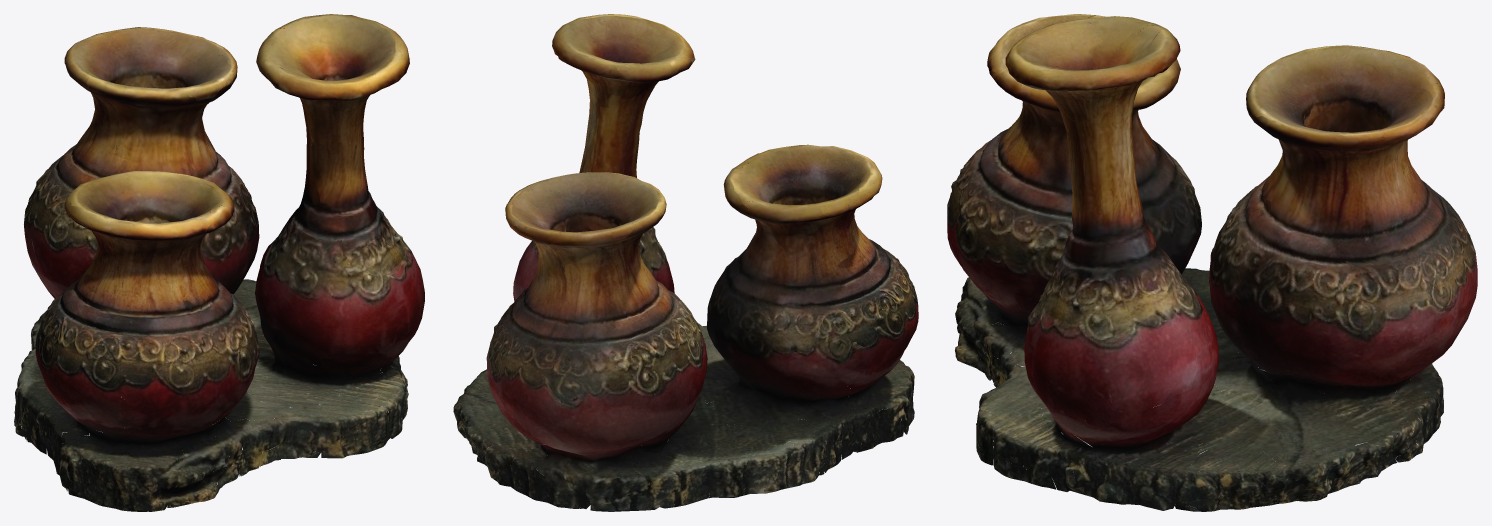
Rendered from jarrones.glb.
3 renders of one model, left to right at view 1: azimuth 30°, elevation 25°; view 2: azimuth 150°, elevation 25°; view 3: azimuth 270°, elevation 25°, orthographic. The views are drawn at different scales.
Visible parts, largest first — view 1: Mesh_0; view 2: Mesh_0; view 3: Mesh_0.
Part boxes in pixels (left/top/right/bottom): Mesh_0: left=14, top=14, right=424, bottom=511; Mesh_0: left=453, top=14, right=918, bottom=511; Mesh_0: left=947, top=14, right=1477, bottom=511.
Bounding box in the file's own units: 0.9134 × 0.8331 × 0.9479.
1 material, 1 textured.
